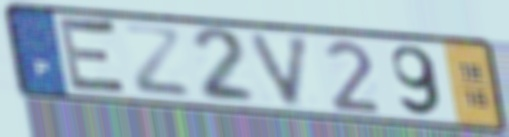2: (189, 25, 260, 105), (319, 36, 385, 116)
9: (389, 43, 444, 118)
E: (56, 13, 133, 100)
V: (245, 31, 316, 111)
Z: (120, 21, 194, 100)
